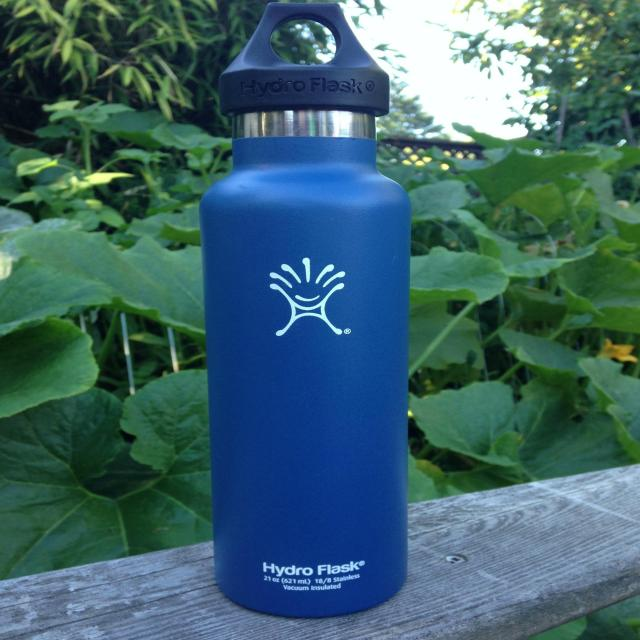gym bottle: (195, 3, 415, 623)
